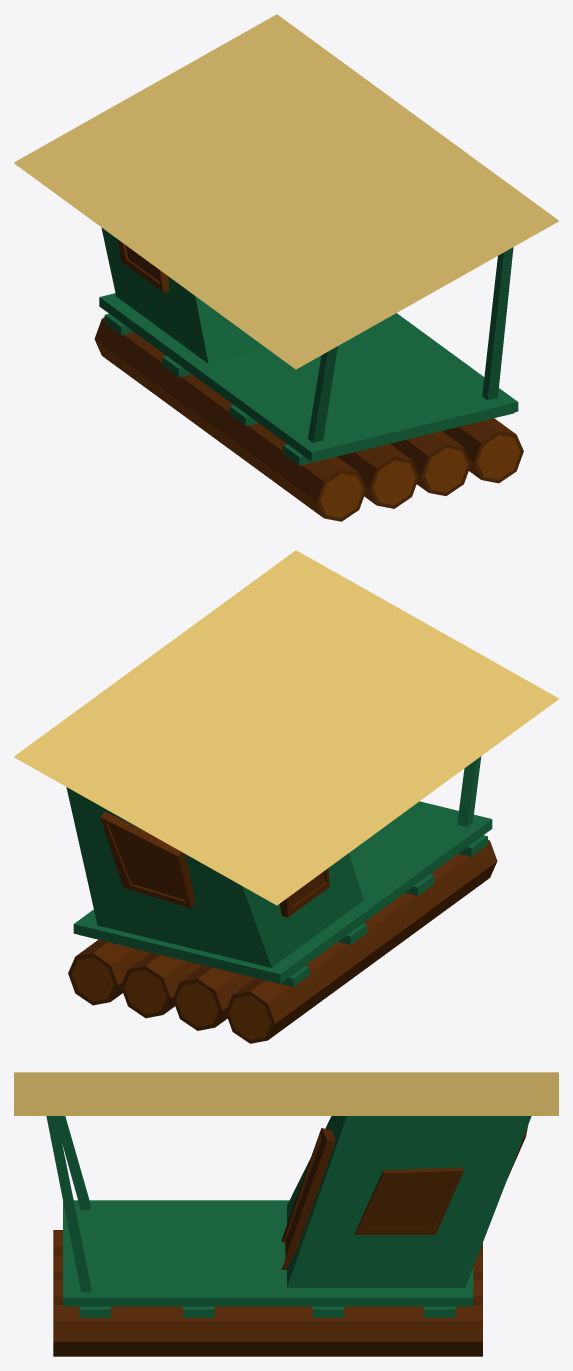
The model's file is 07.11.2026_Bubuia_flutuante3-0 1.fbx.
3 renders of one model, top to bottom at view 1: azimuth 30°, elevation 25°; view 2: azimuth 150°, elevation 25°; view 3: azimuth 270°, elevation 25°, orthographic. The views are drawn at different scales.
Parts seen in each view (by area): view 1: Cube.017; view 2: Cube.017; view 3: Cube.017.
Part boxes in pixels (x1,y1,x2,y2): Cube.017: (14, 14, 558, 521); Cube.017: (14, 550, 558, 1043); Cube.017: (14, 1072, 558, 1356).
Bounding box in the file's own units: 10.91 × 10.63 × 20.26.
